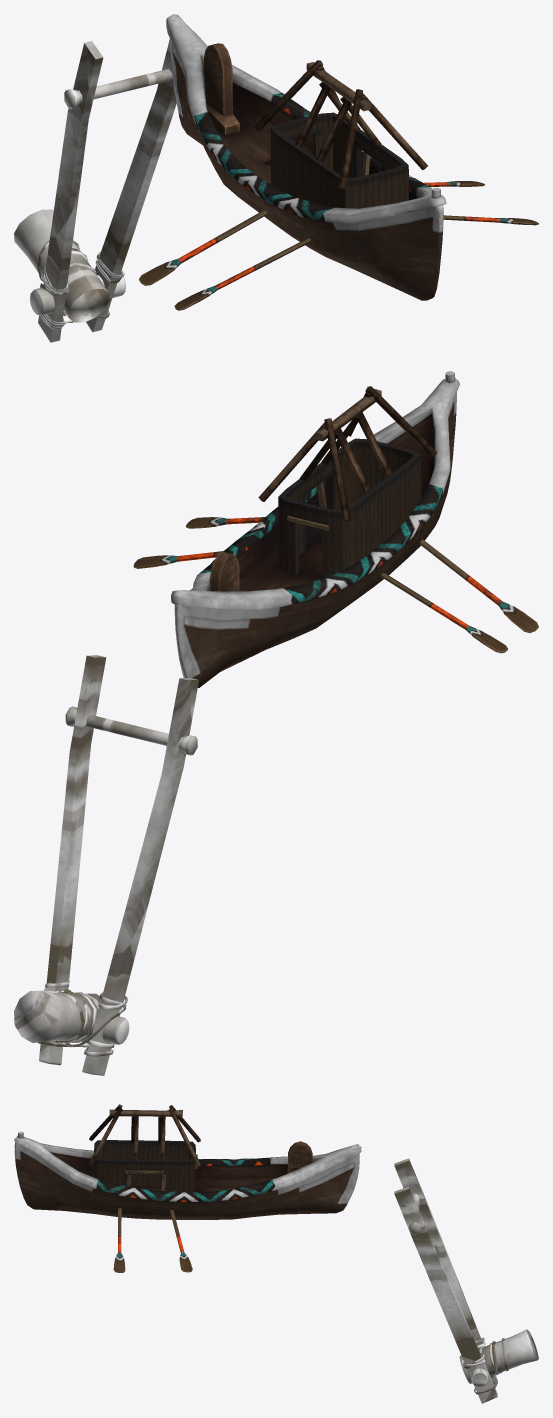
The model's file is 185-tepoztlicanoe.glb.
3 views of the same model, one above another, from view 1: azimuth 30°, elevation 25°; view 2: azimuth 150°, elevation 25°; view 3: azimuth 270°, elevation 25° (orthographic). The views are drawn at different scales.
Size of the model in its own units: 5.09 by 6.3 by 10.29.
Materials: 2 (2 with a texture image).
